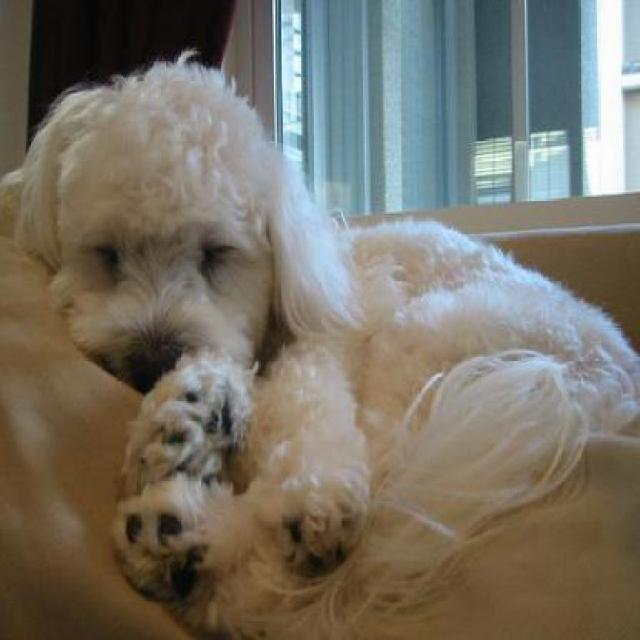Dog: (12, 43, 638, 639)
